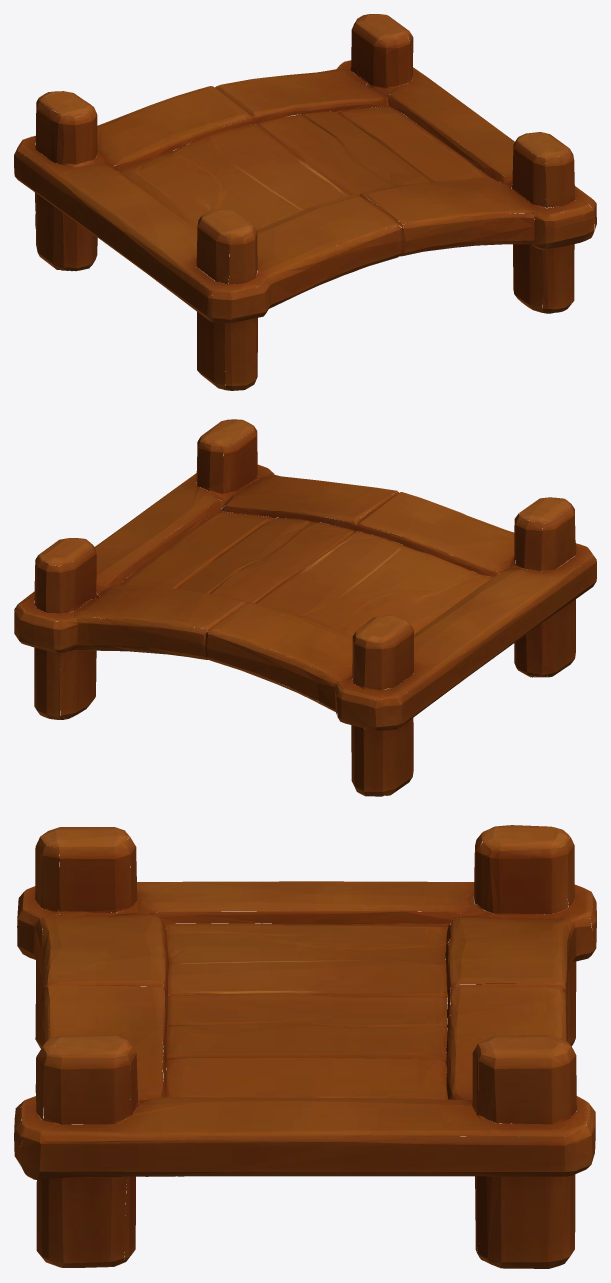
Rendered from wood_platform.glb.
3 renders of one model, top to bottom at view 1: azimuth 30°, elevation 25°; view 2: azimuth 150°, elevation 25°; view 3: azimuth 270°, elevation 25°, orthographic. The views are drawn at different scales.
Parts seen in each view (by area): view 1: geometry_0; view 2: geometry_0; view 3: geometry_0.
Part boxes in pixels (left/top/right/bottom): geometry_0: left=14, top=14, right=596, bottom=390; geometry_0: left=14, top=419, right=596, bottom=796; geometry_0: left=14, top=825, right=596, bottom=1268.
Bounding box in the file's own units: 0.9987 × 0.3921 × 0.9585.
Materials: 1 (1 with a texture image).
